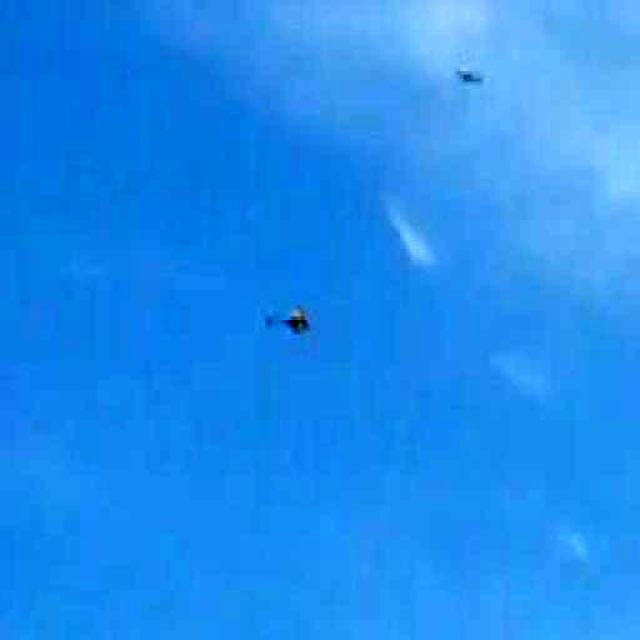drone: (248, 285, 328, 342)
